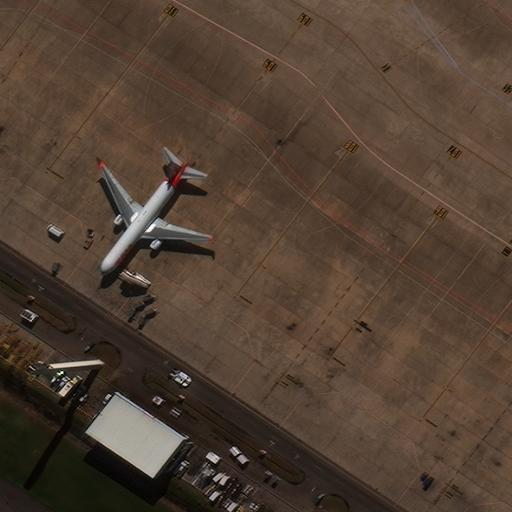Large Civil Transport: (103, 163, 203, 271)
